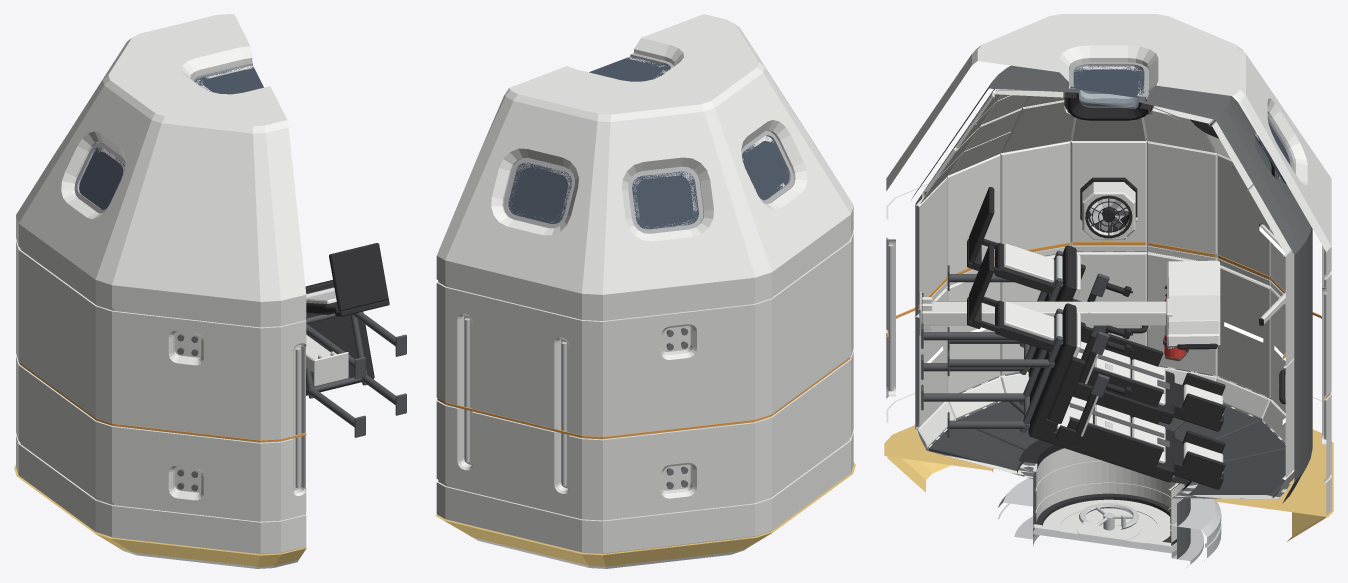
The model's file is ax_cmd_06_tug_cab_cutaway.glb.
The picture shows the model from 3 angles, left to right: view 1: azimuth 30°, elevation 25°; view 2: azimuth 150°, elevation 25°; view 3: azimuth 270°, elevation 25°; orthographic projection. The views are drawn at different scales.
Parts seen in each view (by area): view 1: ext_shell, seat_1_legrest, seat_1_frame, ext_window_glass, ext_mli_aft_bulkhead, seat_1_shell_pan, console_pedestal, ext_window_frames, ext_handrails, ext_orange_stripes; view 2: ext_shell, ext_window_glass, ext_mli_aft_bulkhead, ext_window_frames, ext_handrails, ext_orange_stripes; view 3: ext_shell, pressure_vessel, panel_b3_f07, panel_b3_f09, ext_mli_aft_bulkhead, panel_b2_f06, tunnel_liner, panel_b3_f08, panel_b3_f06, seat_1_frame, console_pedestal, console_fascia (+66 smaller).
Part boxes in pixels (x1=…): ext_shell: x1=16, y1=14, x2=306, y2=568; seat_1_legrest: x1=306, y1=243, x2=389, y2=316; seat_1_frame: x1=306, y1=312, x2=406, y2=437; ext_window_glass: x1=79, y1=65, x2=263, y2=209; ext_mli_aft_bulkhead: x1=14, y1=465, x2=306, y2=566; seat_1_shell_pan: x1=305, y1=280, x2=371, y2=371; console_pedestal: x1=306, y1=335, x2=348, y2=386; ext_window_frames: x1=74, y1=62, x2=252, y2=213; ext_handrails: x1=295, y1=347, x2=300, y2=488; ext_orange_stripes: x1=19, y1=362, x2=306, y2=442; ext_shell: x1=436, y1=14, x2=853, y2=568; ext_window_glass: x1=508, y1=56, x2=788, y2=229; ext_mli_aft_bulkhead: x1=435, y1=462, x2=855, y2=566; ext_window_frames: x1=503, y1=53, x2=793, y2=233; ext_handrails: x1=464, y1=318, x2=566, y2=485; ext_orange_stripes: x1=437, y1=357, x2=850, y2=439; ext_shell: x1=886, y1=14, x2=1331, y2=515; pressure_vessel: x1=911, y1=65, x2=1312, y2=558; panel_b3_f07: x1=1147, y1=141, x2=1217, y2=260; panel_b3_f09: x1=1000, y1=141, x2=1070, y2=256; ext_mli_aft_bulkhead: x1=884, y1=425, x2=1333, y2=541; panel_b2_f06: x1=1217, y1=265, x2=1271, y2=397; tunnel_liner: x1=1033, y1=448, x2=1183, y2=542; panel_b3_f08: x1=1071, y1=140, x2=1146, y2=251; panel_b3_f06: x1=1217, y1=154, x2=1271, y2=286; seat_1_frame: x1=921, y1=308, x2=1063, y2=437; console_pedestal: x1=919, y1=291, x2=1172, y2=335; console_fascia: x1=1167, y1=260, x2=1220, y2=347.
Bounding box in the file's own units: 1.82 × 2.78 × 2.36.
